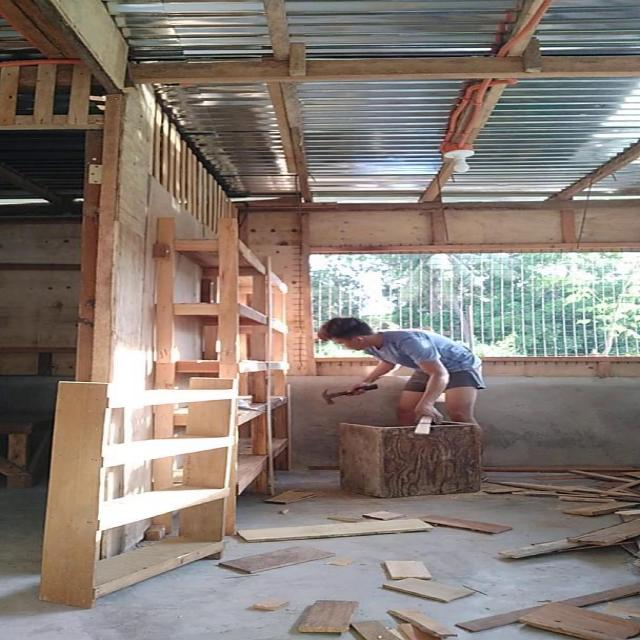hammer: (321, 384, 378, 406)
